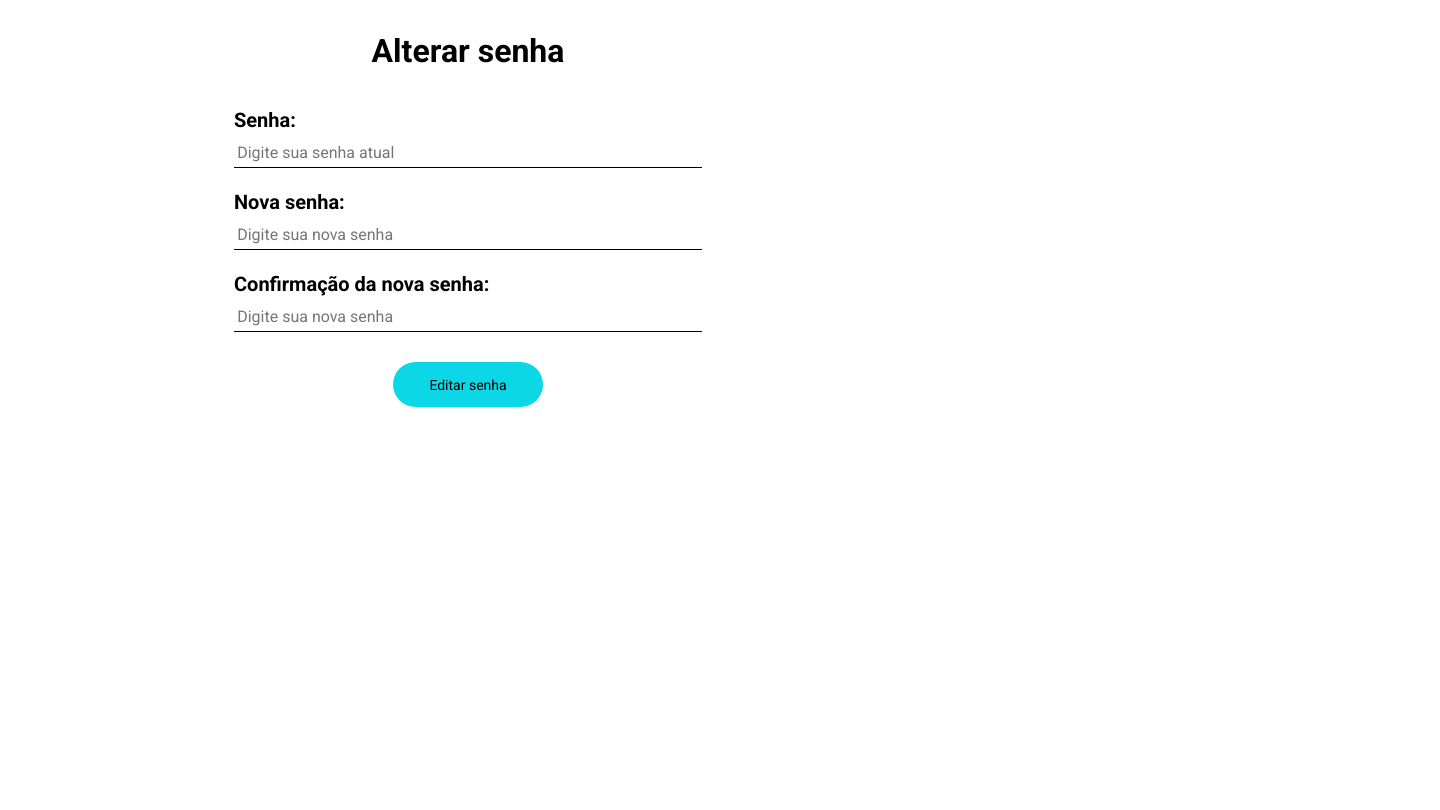
Scenario: Security › Render form code
Step 1. Click the button "Editar senha" → [468, 384], box x1=393 y1=362 x2=543 y2=407
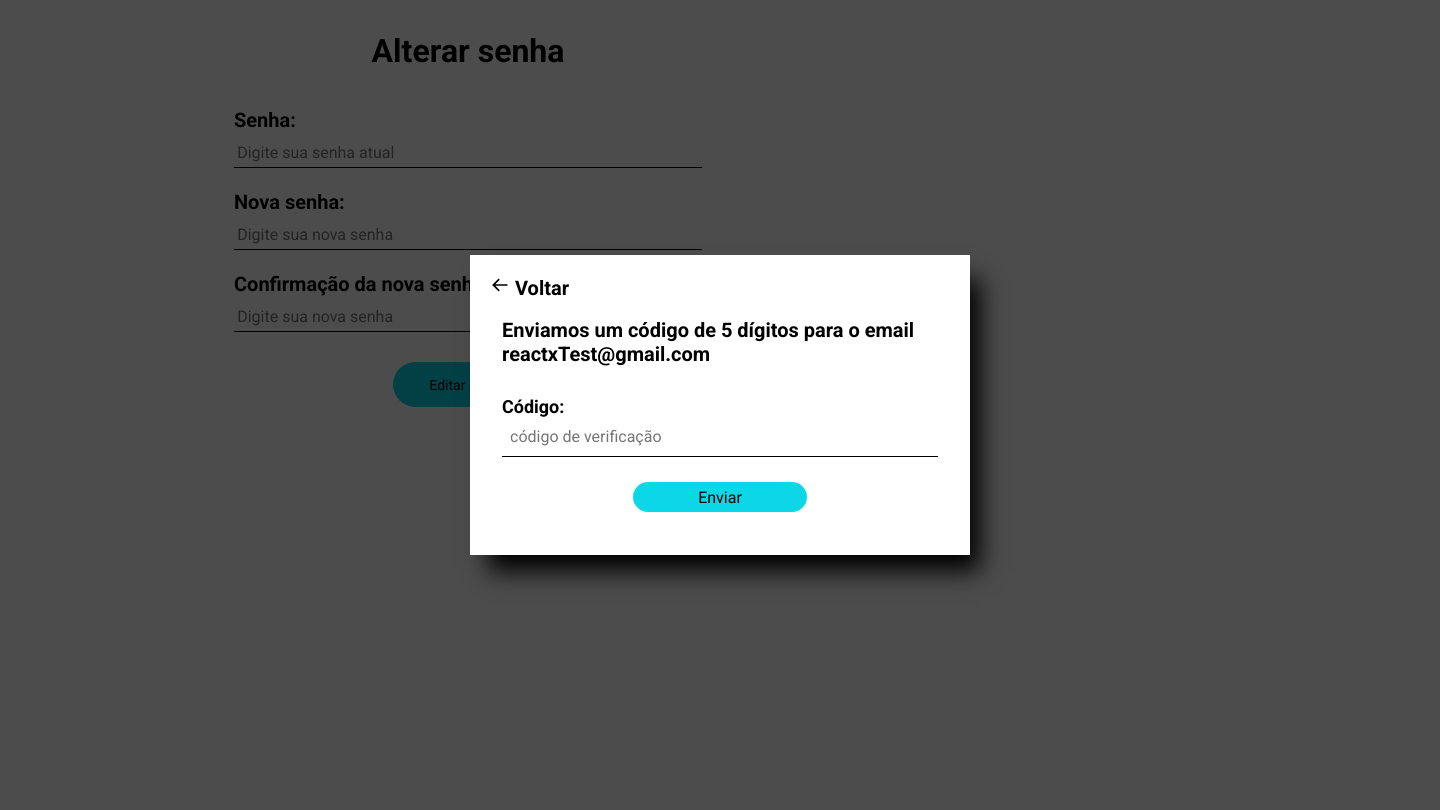
Expected: the 1st element with test id "formCode" is shown
